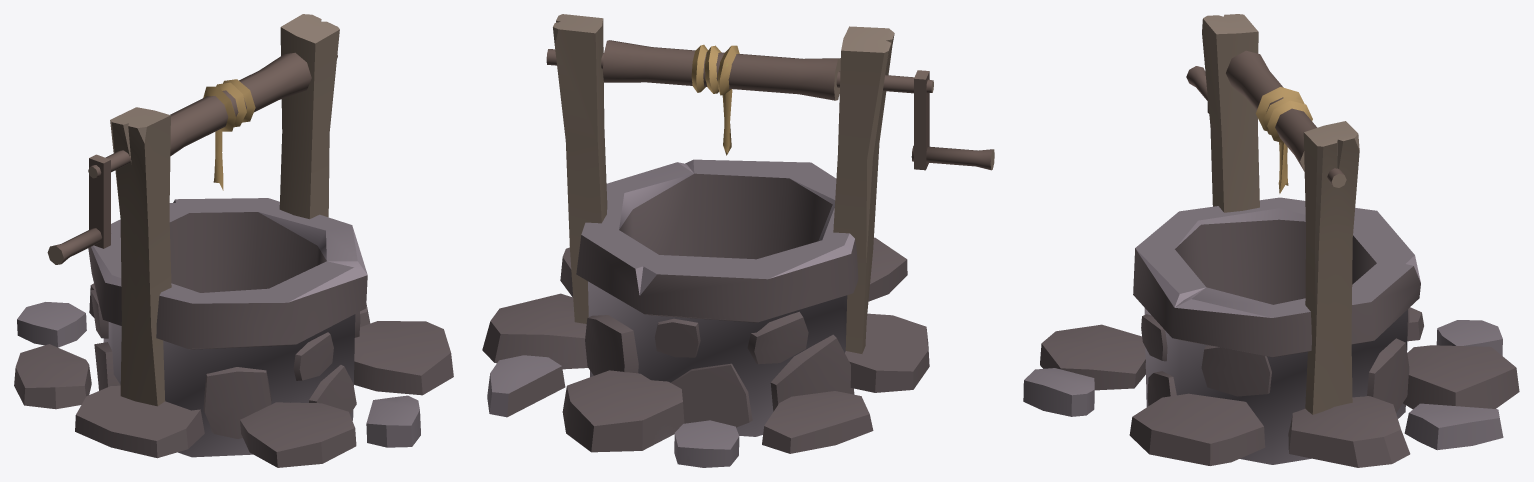
Rendered from well.glb.
3 renders of one model, left to right at view 1: azimuth 30°, elevation 25°; view 2: azimuth 150°, elevation 25°; view 3: azimuth 270°, elevation 25°, orthographic. The views are drawn at different scales.
Parts seen in each view (by area): view 1: well; view 2: well; view 3: well.
Boxes of the visible parts, box(x1,y1,x2,y2) form: well: box(14, 14, 453, 467); well: box(482, 14, 994, 467); well: box(1023, 14, 1519, 467).
Size of the model in its own units: 15.63 by 12.78 by 16.75.
Materials: 2 (2 with a texture image).
